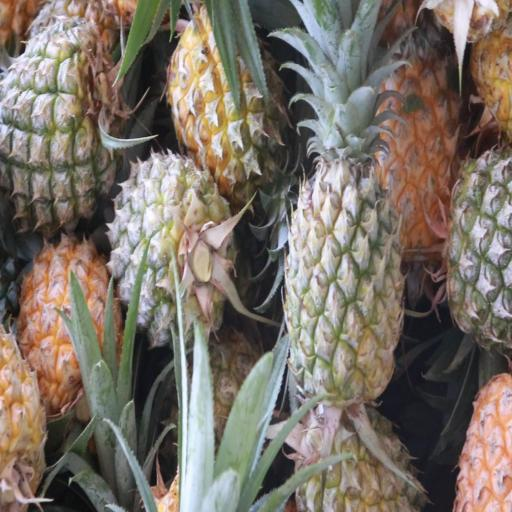------------------------------: (110, 156, 228, 335), (0, 38, 114, 220), (168, 6, 284, 182)
Pineapple - v8 v1: (378, 22, 463, 264), (17, 231, 117, 407)
